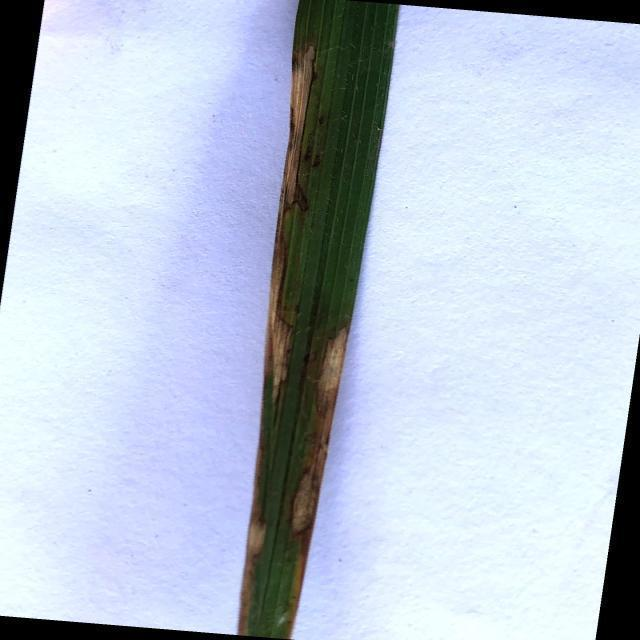Bacterial_Leaf_Blight: (268, 44, 318, 402), (292, 325, 354, 536), (240, 516, 269, 636), (276, 546, 312, 637)
